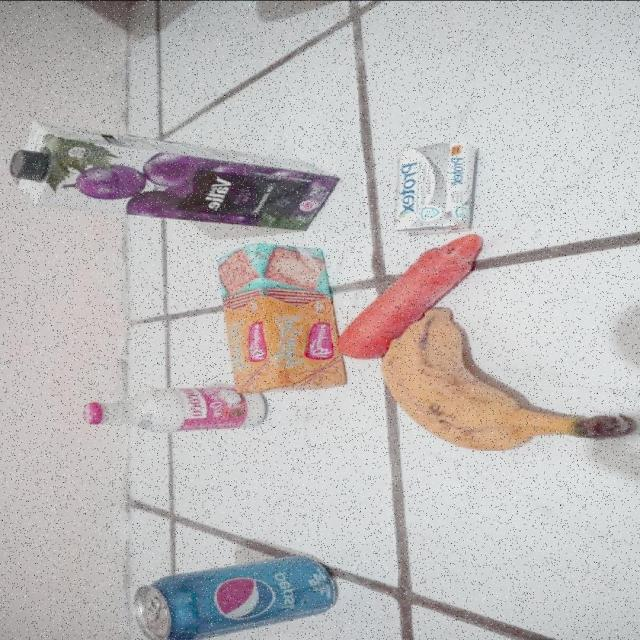Banana: (382, 309, 627, 451)
Carrot: (339, 233, 482, 359)
CoconutMilk: (82, 388, 268, 432)
Cracker: (216, 245, 348, 393)
Soap: (394, 141, 478, 235)
SodaCan: (133, 554, 340, 640)
